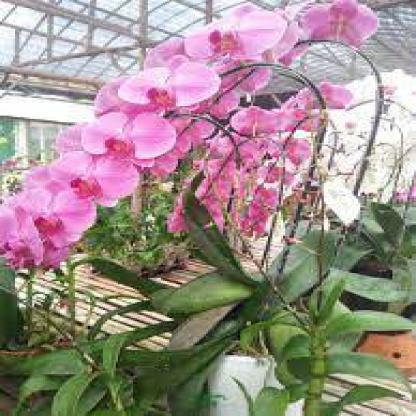ANGGREK: (21, 17, 381, 305)
